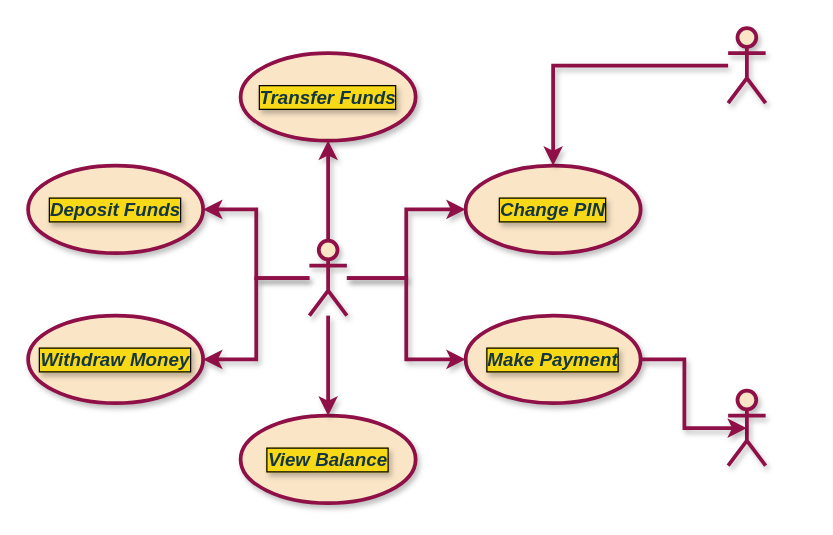
Image size: 833x535. Some labels were removed from this diagram. The centre of each missing label's shape, as x and y in pixels:
Bank Officer: the point at 747,67
Credit System: the point at 747,429
Customer: the point at 329,279
